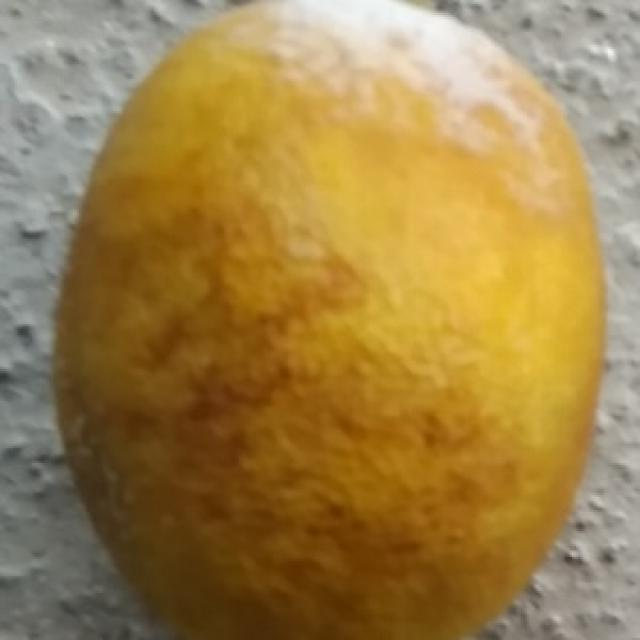overripe: (43, 0, 615, 640)
